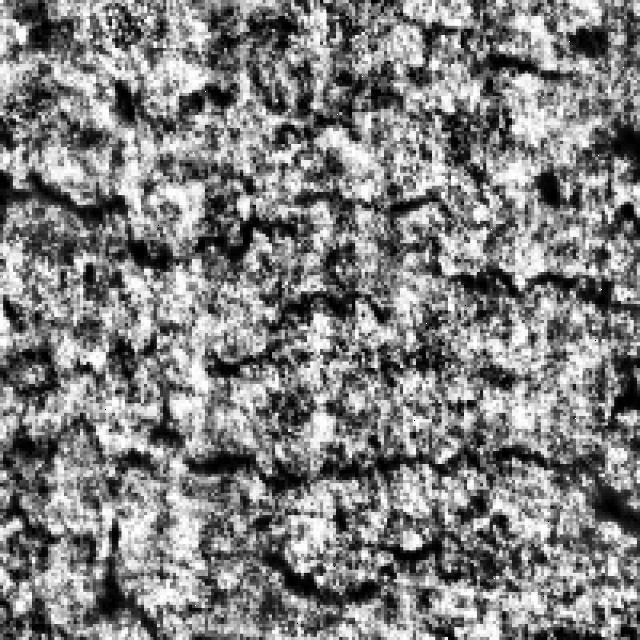Pitted_Surface: (70, 163, 637, 483), (12, 403, 586, 611), (3, 70, 397, 262)
